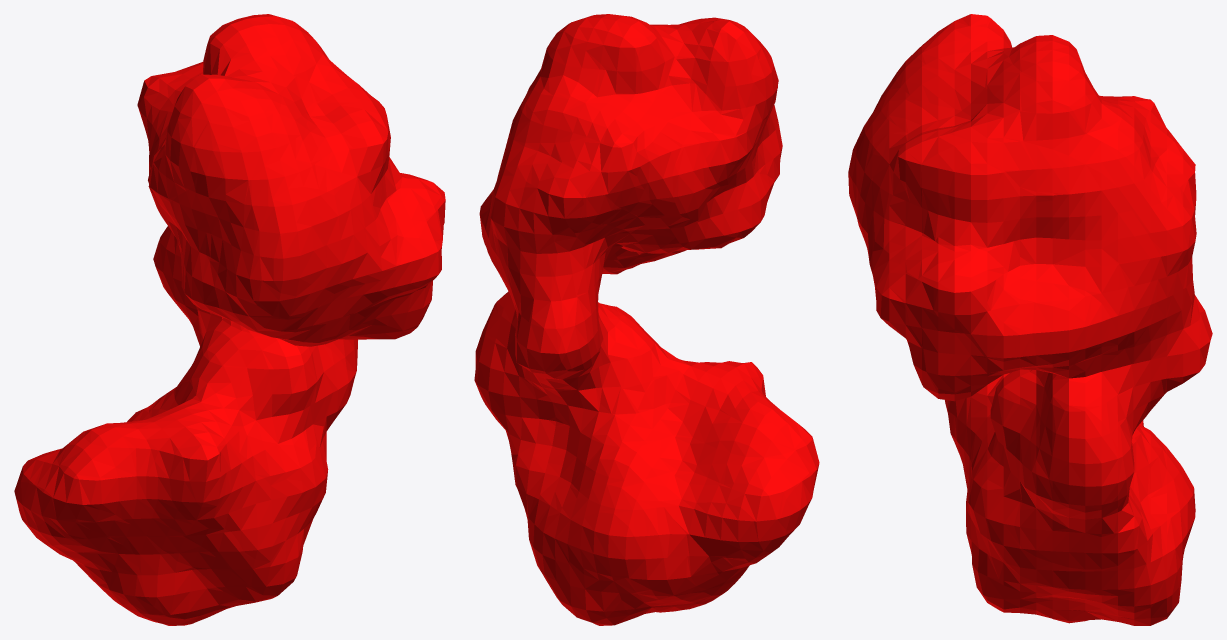
Rendered from ompR_coarse.dae.
3 views of the same model, side by side, from view 1: azimuth 30°, elevation 25°; view 2: azimuth 150°, elevation 25°; view 3: azimuth 270°, elevation 25° (orthographic). The views are drawn at different scales.
Visible parts, largest first — view 1: ompR; view 2: ompR; view 3: ompR.
Part boxes in pixels (x1,y1,x2,y2): ompR: [14, 14, 445, 625]; ompR: [474, 14, 819, 625]; ompR: [848, 14, 1212, 625].
Bounding box in the file's own units: 50.52 × 79.91 × 43.82.
